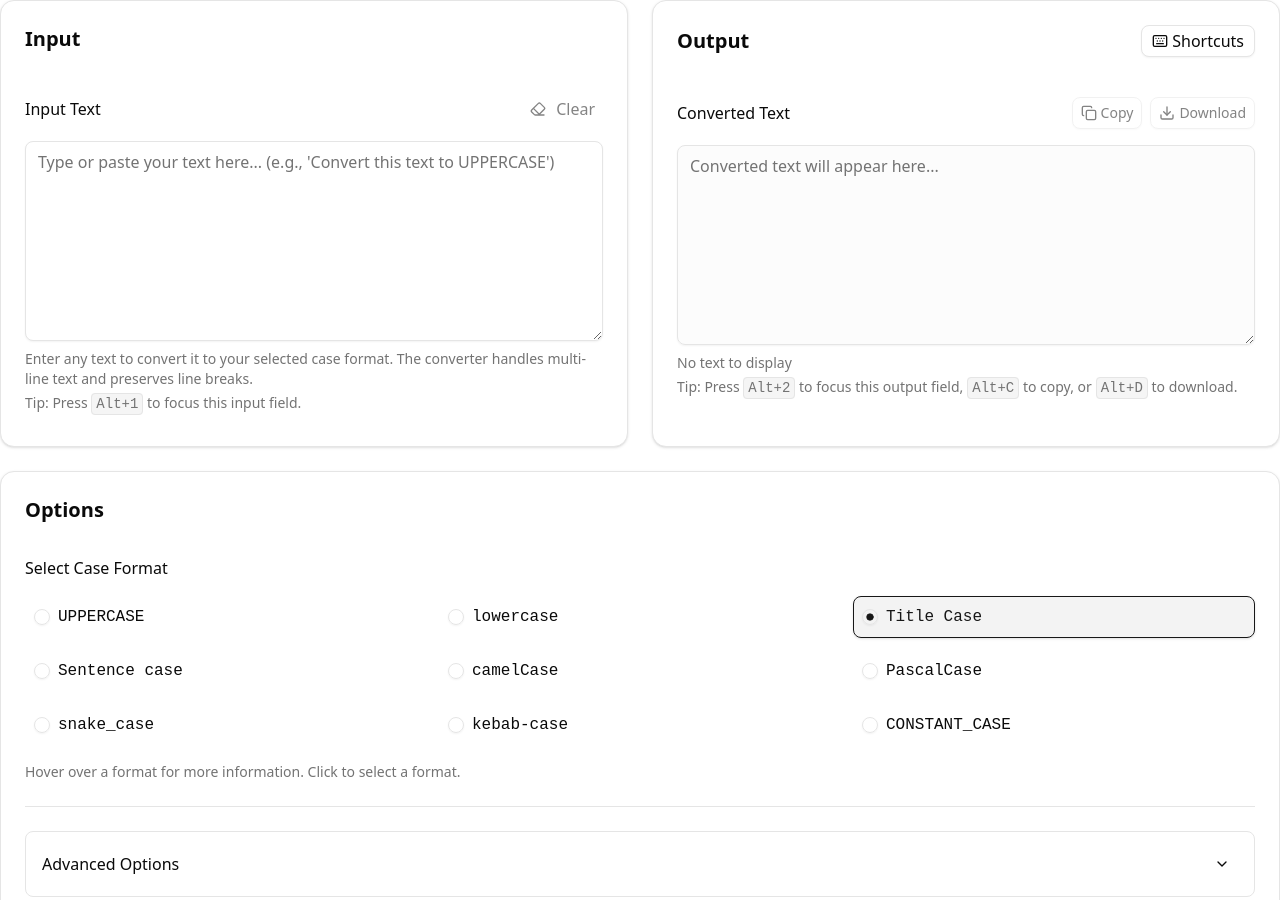
Test: TextCaseConverter › converts text when format changes
Enter text
Replace the text in the text box with test id "text-input" with "hello world" at coordinates (314, 241), box [25,141,603,341]
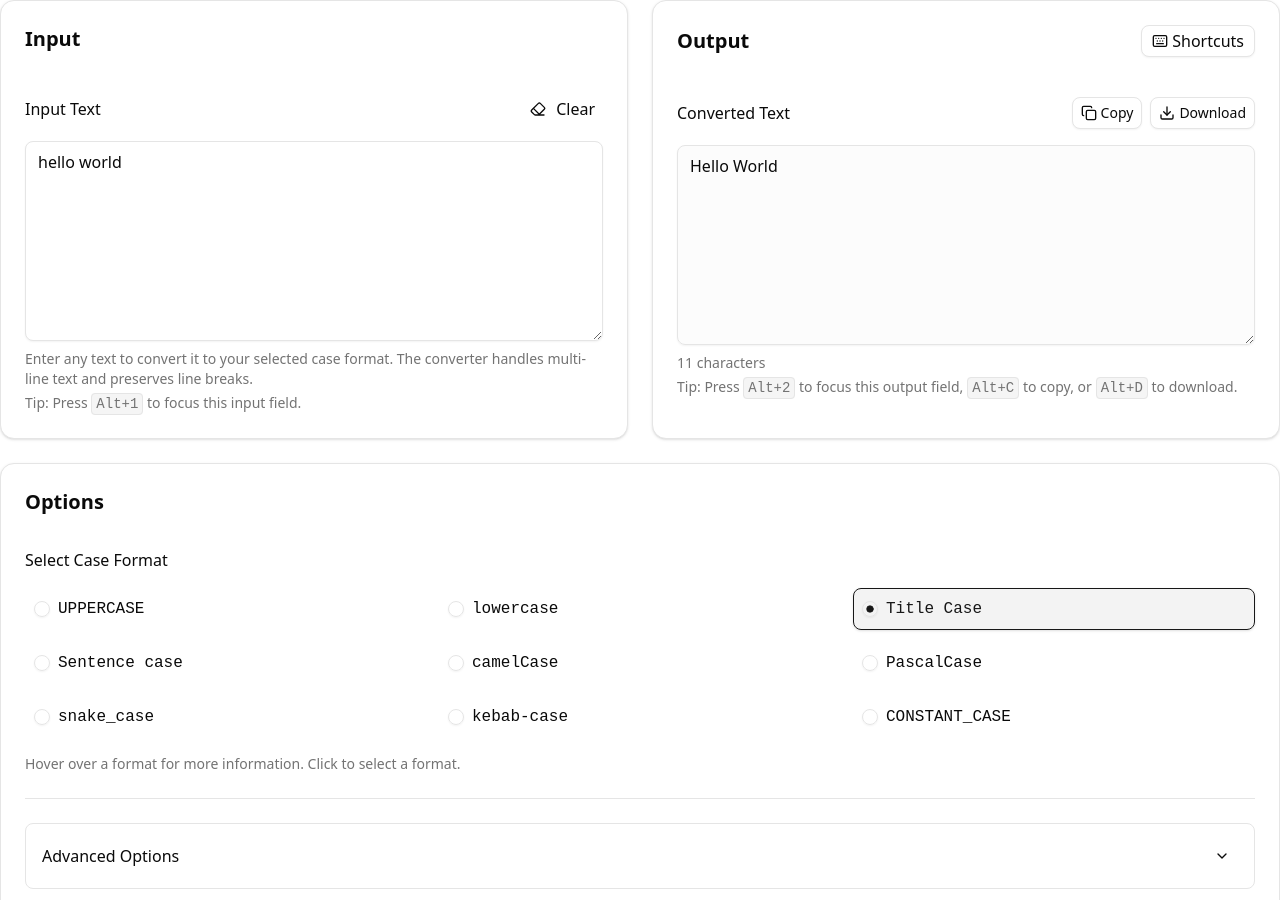
Change format to uppercase
Click the radio button named "UPPERCASE" next to "UPPERCASE".
click(42, 609)  # box [34,601,50,617]
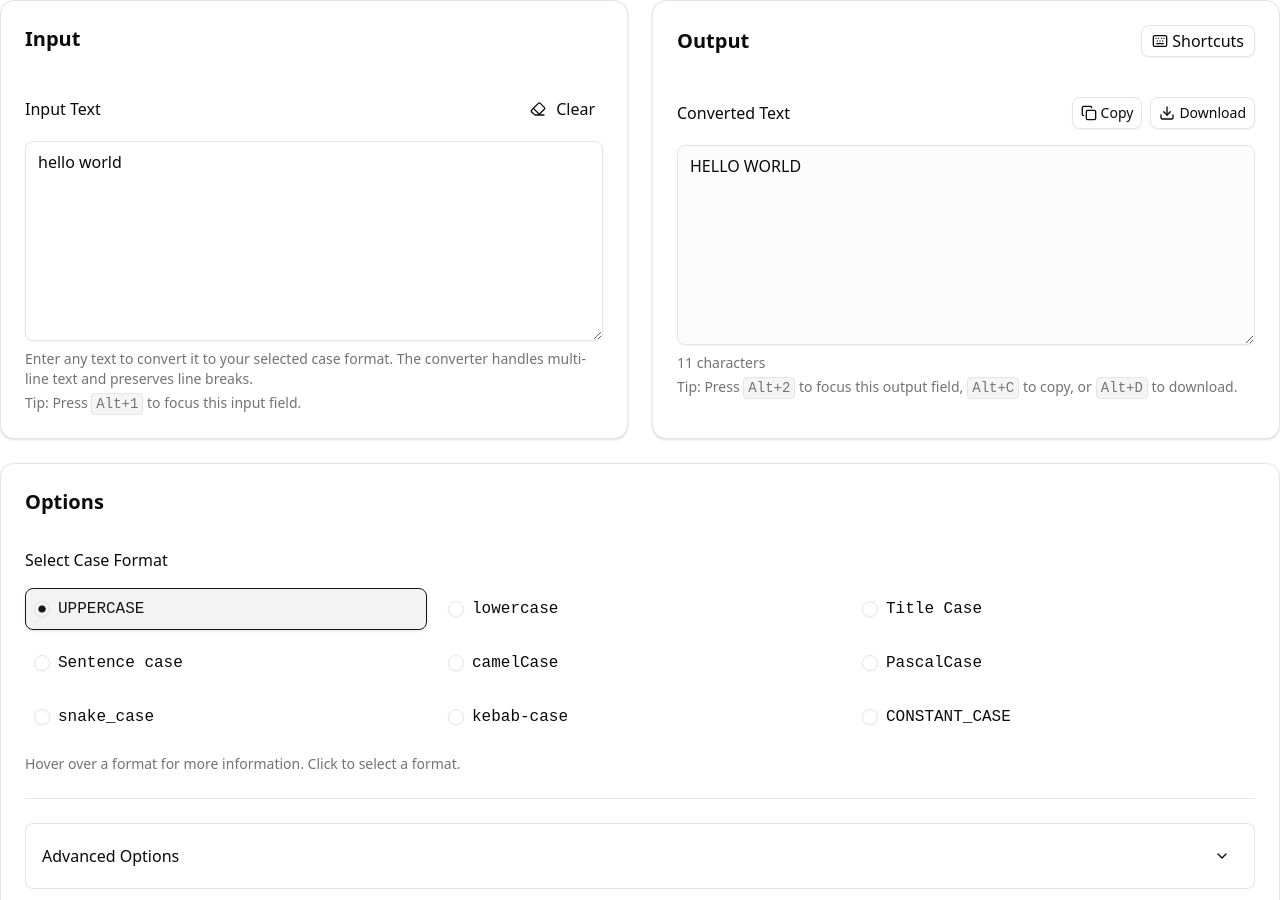
Now the text box with test id "output-textarea" holds "HELLO WORLD", box [677,145,1255,345]
